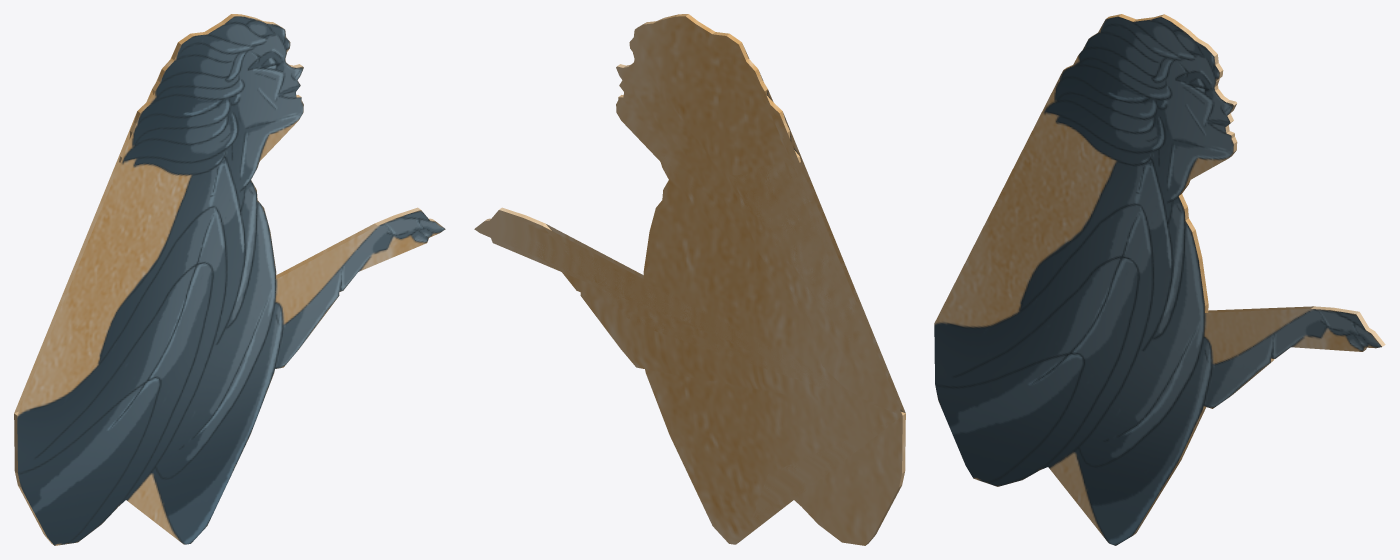
File: statue01.fbx
3 views of the same model, side by side, from view 1: azimuth 30°, elevation 25°; view 2: azimuth 150°, elevation 25°; view 3: azimuth 330°, elevation 25° (orthographic). The views are drawn at different scales.
Visible parts, largest first — view 1: T_Sc_Eglise.008; view 2: T_Sc_Eglise.008; view 3: T_Sc_Eglise.008.
Part boxes in pixels (x1,y1,x2,y2): T_Sc_Eglise.008: [14, 14, 445, 545]; T_Sc_Eglise.008: [474, 14, 905, 545]; T_Sc_Eglise.008: [934, 14, 1385, 545].
Size of the model in its own units: 155 by 179 by 2.
